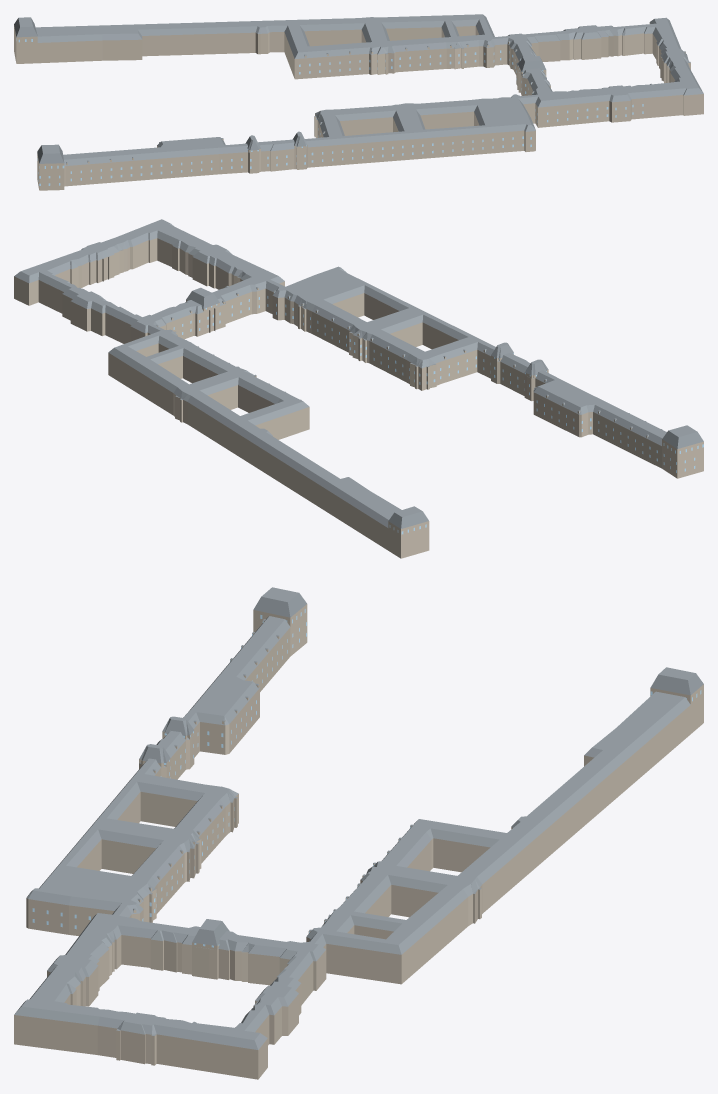
The picture shows the model from 3 angles, top to bottom: view 1: azimuth 30°, elevation 25°; view 2: azimuth 150°, elevation 25°; view 3: azimuth 270°, elevation 25°; orthographic projection. The views are drawn at different scales.
Parts seen in each view (by area): view 1: stone, roof, window; view 2: stone, roof, window; view 3: roof, stone, window.
Boxes of the visible parts, x1,y1,x2,y2 form: stone: [14, 23, 703, 190]; roof: [14, 14, 703, 166]; window: [16, 38, 643, 185]; stone: [14, 238, 703, 558]; roof: [14, 219, 703, 528]; window: [173, 292, 703, 534]; roof: [14, 587, 703, 1049]; stone: [14, 604, 703, 1079]; window: [32, 609, 701, 947].
Bounding box in the file's own units: 711 × 38 × 466.
